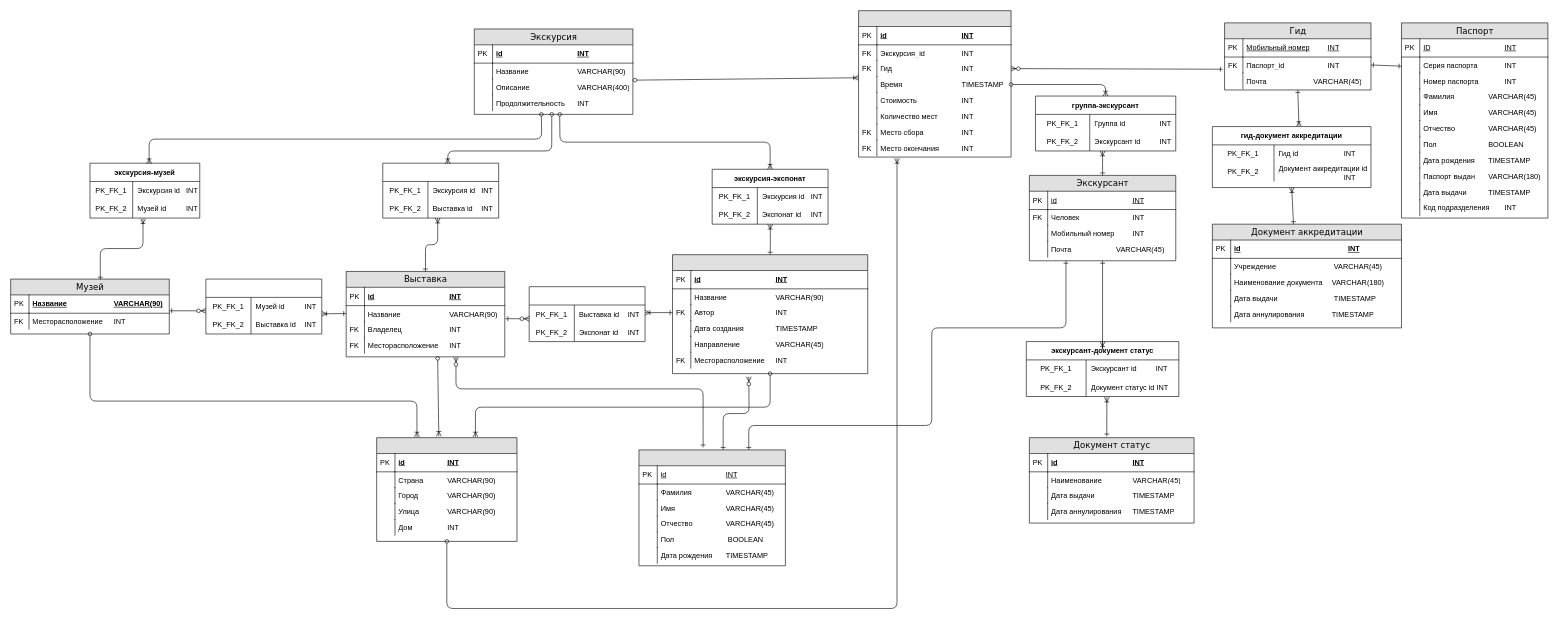
This 1559x625 diagram has some shape labels left out. Each missing label, with the box of its shape:
выставка-экспонат: (529, 286, 645, 342)
Группа: (858, 10, 1011, 157)
Место: (376, 437, 517, 541)
музей-выставка: (205, 278, 322, 334)
Персональные данные: (638, 449, 785, 566)
экскурсия-выставка: (382, 163, 499, 218)
Экспонат: (672, 254, 868, 374)
